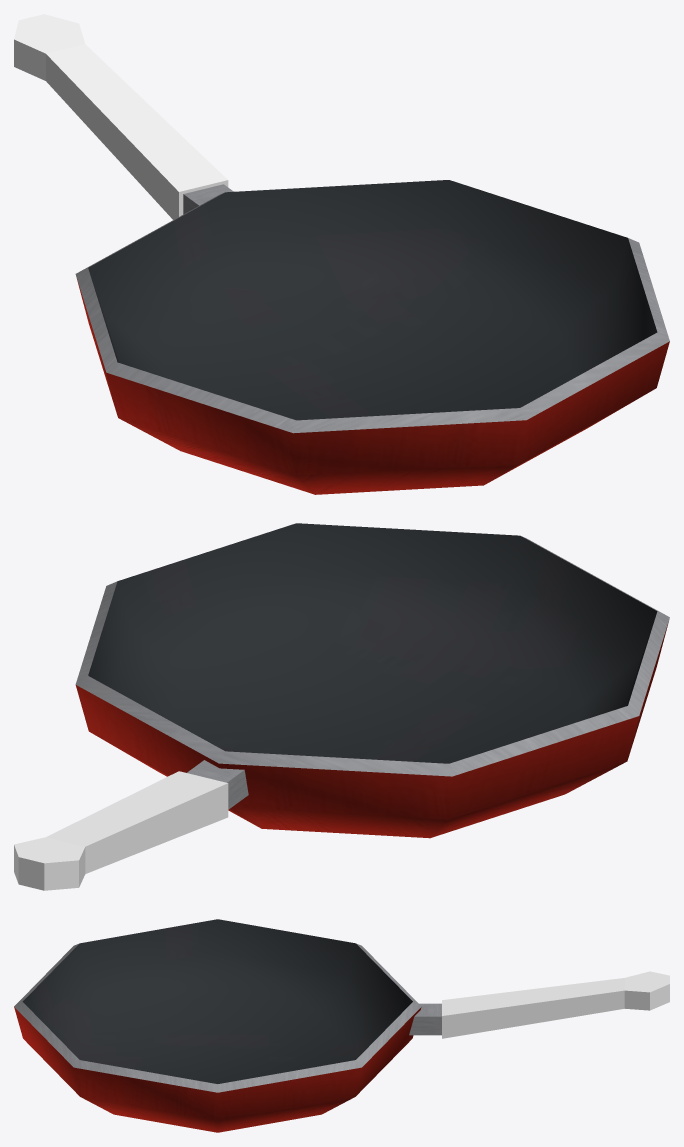
Rendered from Sarten.glb.
3 views of the same model, one above another, from view 1: azimuth 30°, elevation 25°; view 2: azimuth 150°, elevation 25°; view 3: azimuth 270°, elevation 25° (orthographic). The views are drawn at different scales.
Parts seen in each view (by area): view 1: Sarten; view 2: Sarten; view 3: Sarten.
Part boxes in pixels (x1=…): Sarten: x1=14, y1=14, x2=669, y2=494; Sarten: x1=14, y1=523, x2=669, y2=890; Sarten: x1=14, y1=919, x2=669, y2=1132.
Bounding box in the file's own units: 0.4575 × 0.1125 × 0.7362.
Materials: 4 (3 with a texture image).
